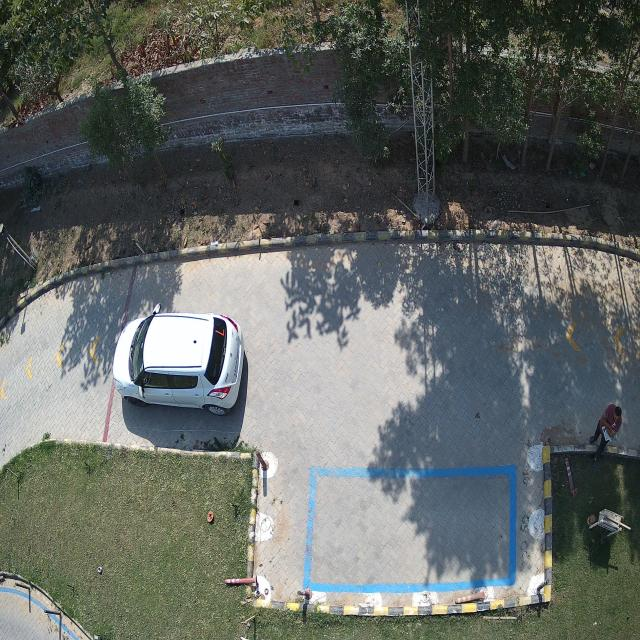car: (112, 312, 244, 415)
